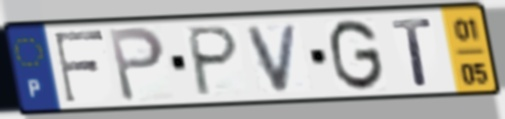F: (51, 28, 107, 105)
G: (327, 16, 387, 94)
P: (105, 25, 168, 105), (186, 24, 242, 100)
T: (389, 16, 436, 89)
V: (244, 21, 303, 95)
